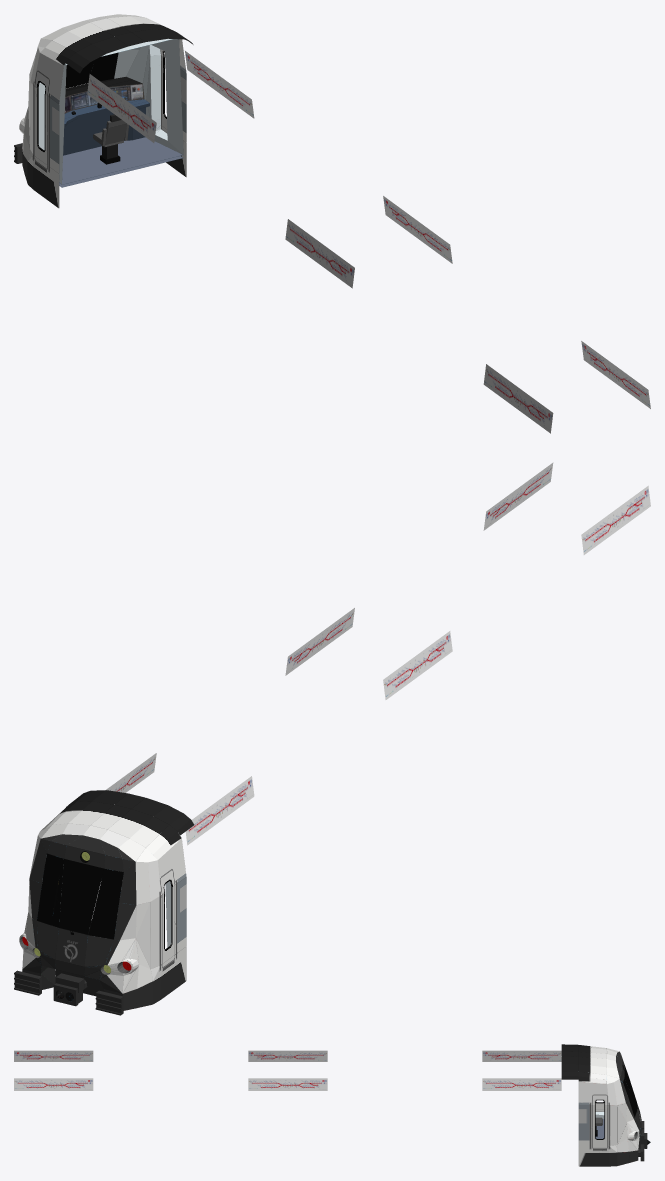
3 views of the same model, one above another, from view 1: azimuth 30°, elevation 25°; view 2: azimuth 150°, elevation 25°; view 3: azimuth 270°, elevation 25° (orthographic). The views are drawn at different scales.
Visible parts, largest first — view 1: car1_interior, car1_exterior, internal_signs, car1_glass; view 2: car1_exterior, internal_signs, car1_glass; view 3: car1_exterior, internal_signs, car1_interior, car1_glass.
Part boxes in pixels (left/top/right/bottom): car1_interior: left=37, top=36, right=183, bottom=184; car1_exterior: left=14, top=14, right=193, bottom=208; internal_signs: left=87, top=51, right=650, bottom=433; car1_glass: left=65, top=52, right=118, bottom=88; car1_exterior: left=14, top=790, right=194, bottom=1015; internal_signs: left=106, top=462, right=650, bottom=845; car1_glass: left=37, top=853, right=123, bottom=939; car1_exterior: left=561, top=1044, right=650, bottom=1166; internal_signs: left=14, top=1050, right=561, bottom=1090; car1_interior: left=595, top=1102, right=604, bottom=1139; car1_glass: left=623, top=1062, right=636, bottom=1117.
Bounding box in the file's own units: 2.88 × 3.44 × 21.08.
Materials: 2 (2 with a texture image).
